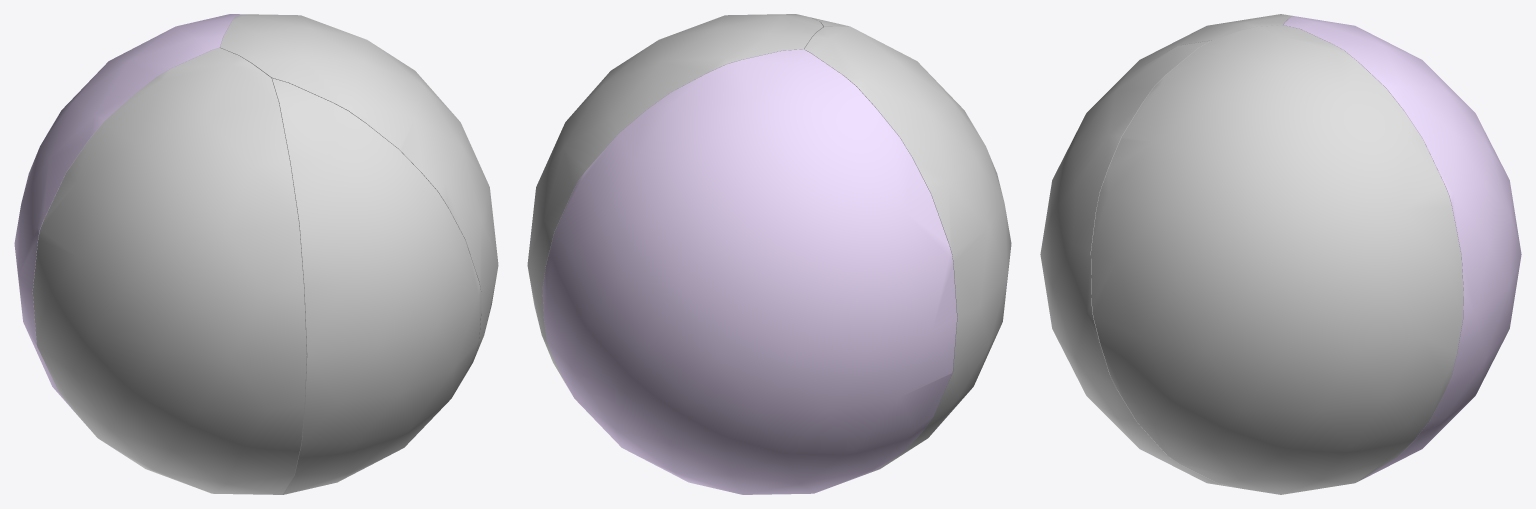
Rendered from BrokenItem0.fbx.
The picture shows the model from 3 angles, left to right: view 1: azimuth 30°, elevation 25°; view 2: azimuth 150°, elevation 25°; view 3: azimuth 270°, elevation 25°; orthographic projection.
Parts seen in each view (by area): view 1: Item0_cell.002, Item0_cell.003, Item0_cell, Item0_cell.001; view 2: Item0_cell.001, Item0_cell.002, Item0_cell; view 3: Item0_cell, Item0_cell.001, Item0_cell.003, Item0_cell.002.
Part boxes in pixels (x1,y1,x2,y2): Item0_cell.002: (32, 48, 306, 494); Item0_cell.003: (272, 78, 481, 494); Item0_cell: (220, 14, 498, 377); Item0_cell.001: (14, 14, 246, 408); Item0_cell.001: (542, 49, 956, 494); Item0_cell.002: (804, 26, 1011, 475); Item0_cell: (527, 14, 823, 382); Item0_cell: (1091, 25, 1463, 494); Item0_cell.001: (1284, 16, 1521, 480); Item0_cell.003: (1040, 40, 1236, 487); Item0_cell.002: (1087, 14, 1292, 112).
Bounding box in the file's own units: 200 × 200 × 200.
